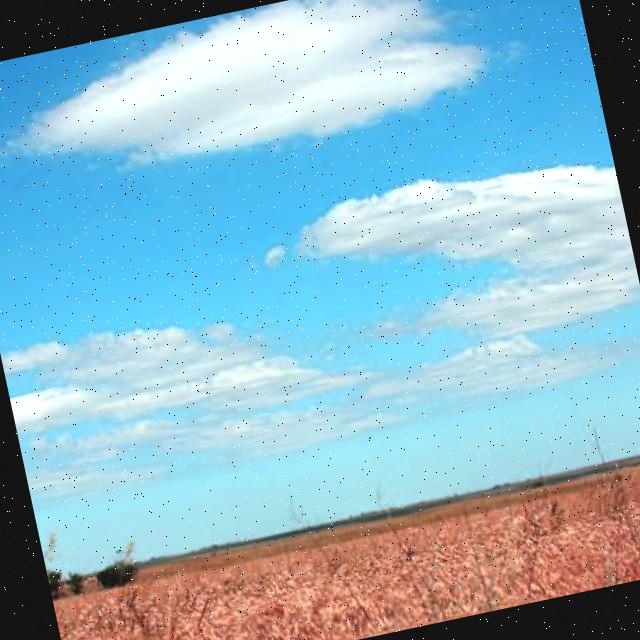Cs: (1, 1, 640, 516)
